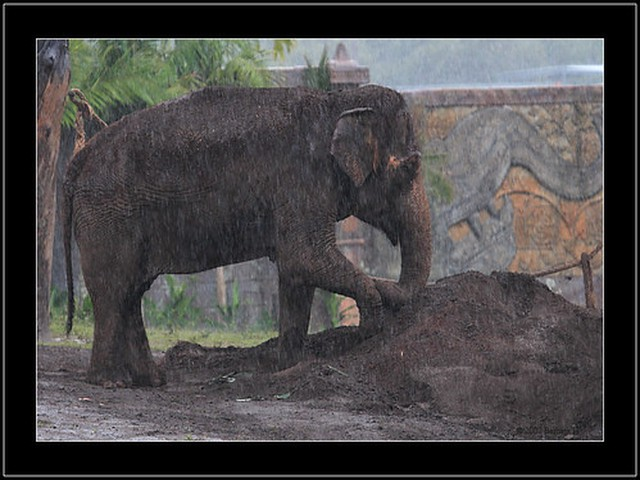Elephant: (58, 80, 436, 385)
